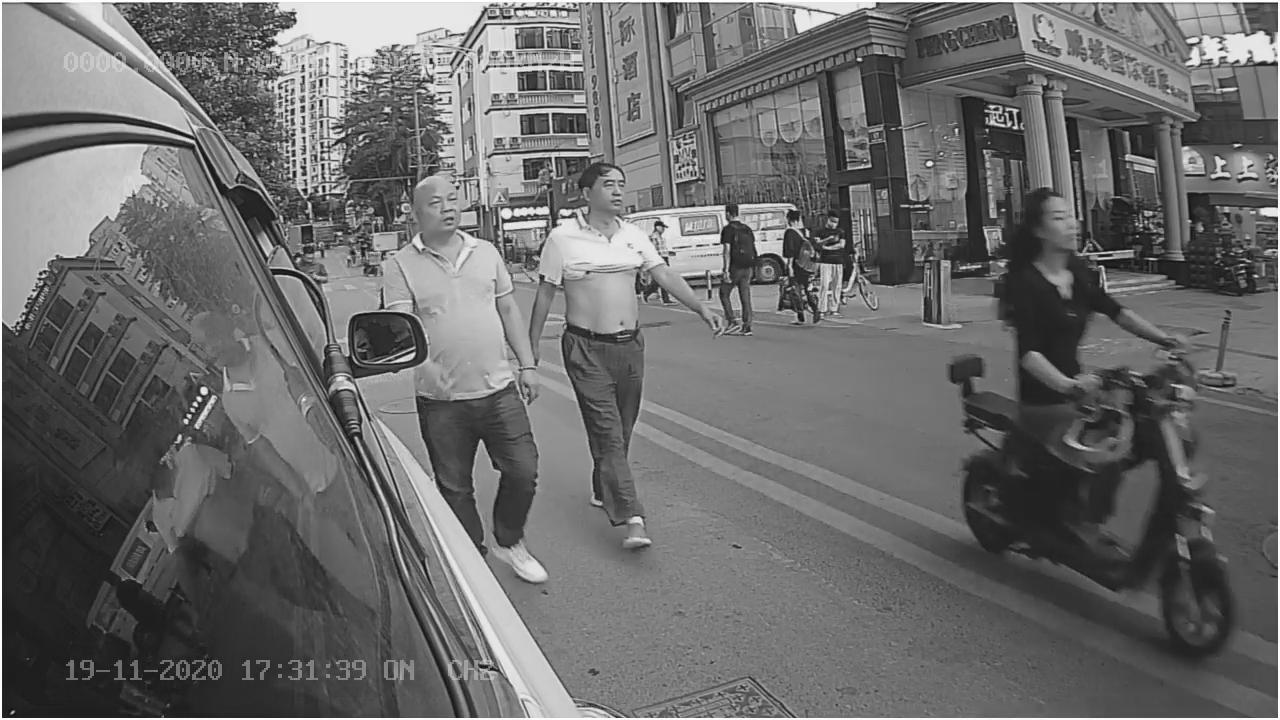person: (539, 157, 673, 556)
